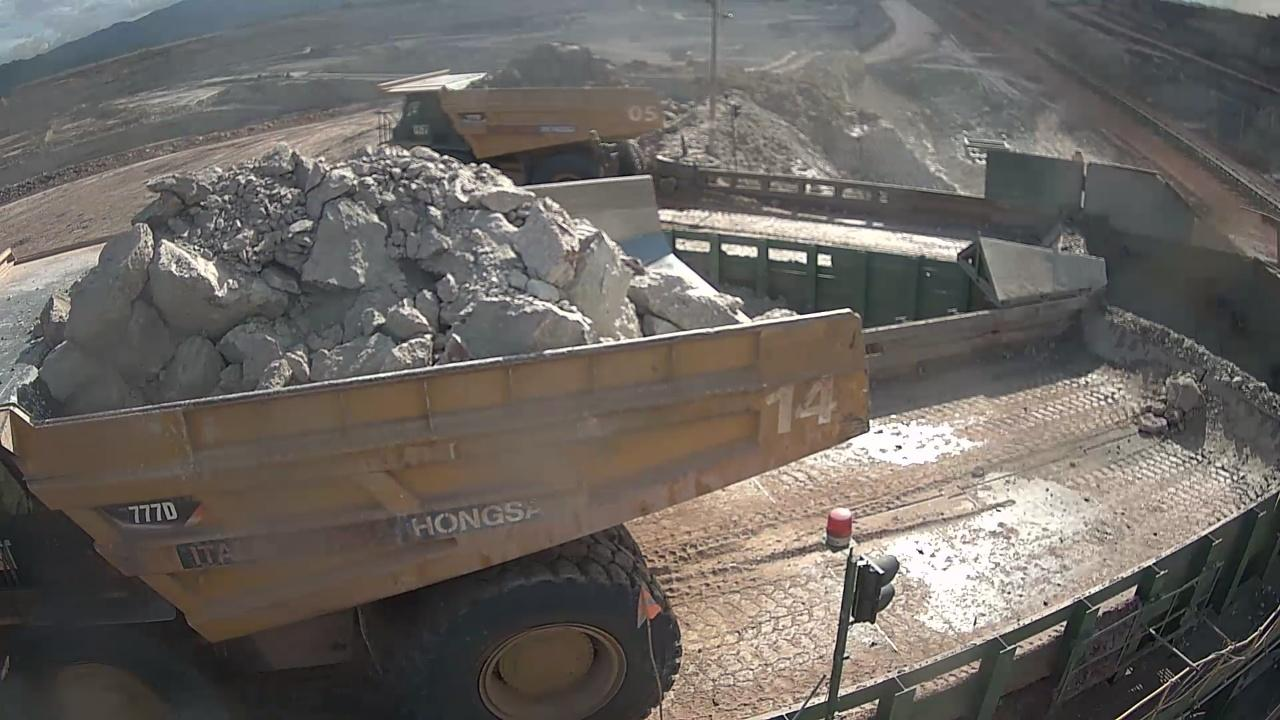full_load: (50, 164, 621, 378), (489, 38, 638, 92)
mining_truck: (9, 144, 890, 719), (363, 21, 714, 206)
tail_number: (760, 374, 840, 433), (624, 96, 663, 127)
truck_size: (101, 482, 203, 539)
